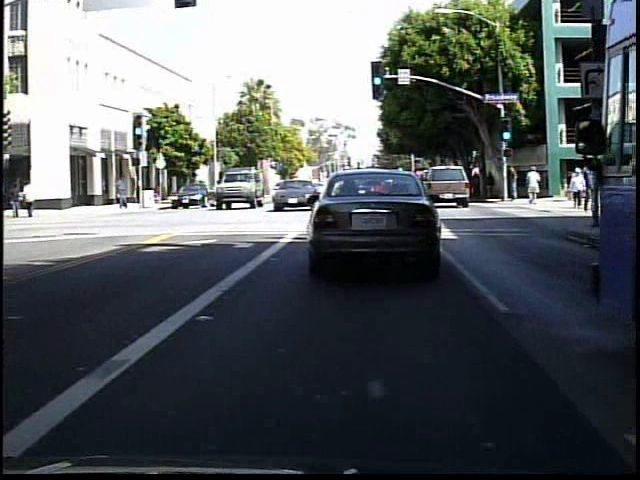person: (504, 161, 524, 206), (524, 165, 542, 207), (24, 179, 41, 220), (112, 175, 130, 212), (12, 182, 25, 218), (471, 172, 484, 202), (484, 169, 496, 200)
